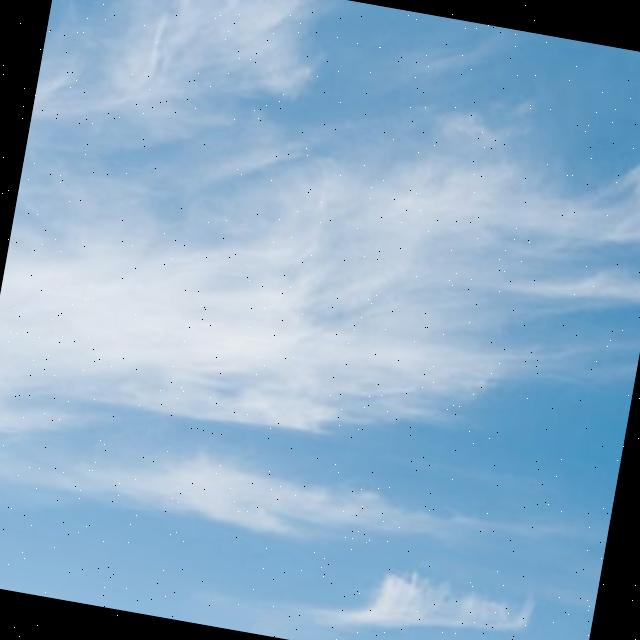Ci: (1, 1, 640, 491)
